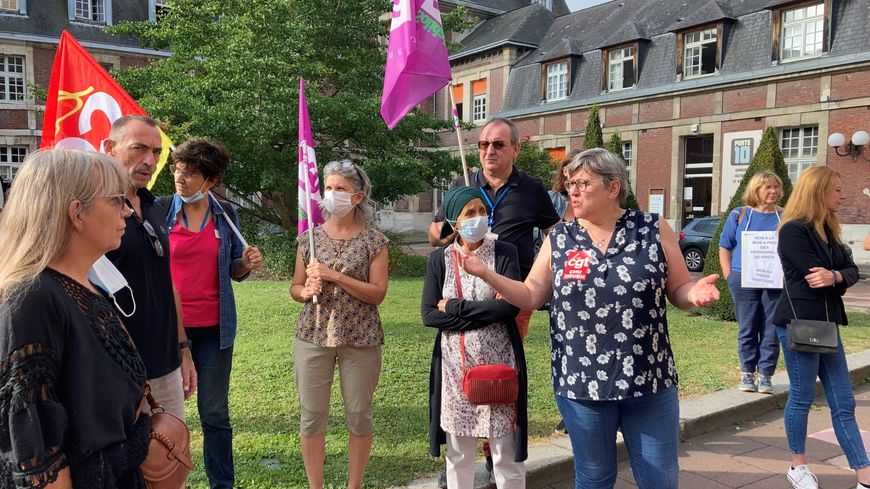with_incorrect_mask: (168, 162, 217, 203)
with_mask: (320, 180, 366, 218), (446, 206, 494, 241)
without_mask: (62, 188, 130, 254), (110, 136, 164, 188), (561, 176, 623, 221), (476, 136, 520, 173), (826, 184, 849, 214), (758, 181, 782, 206)
